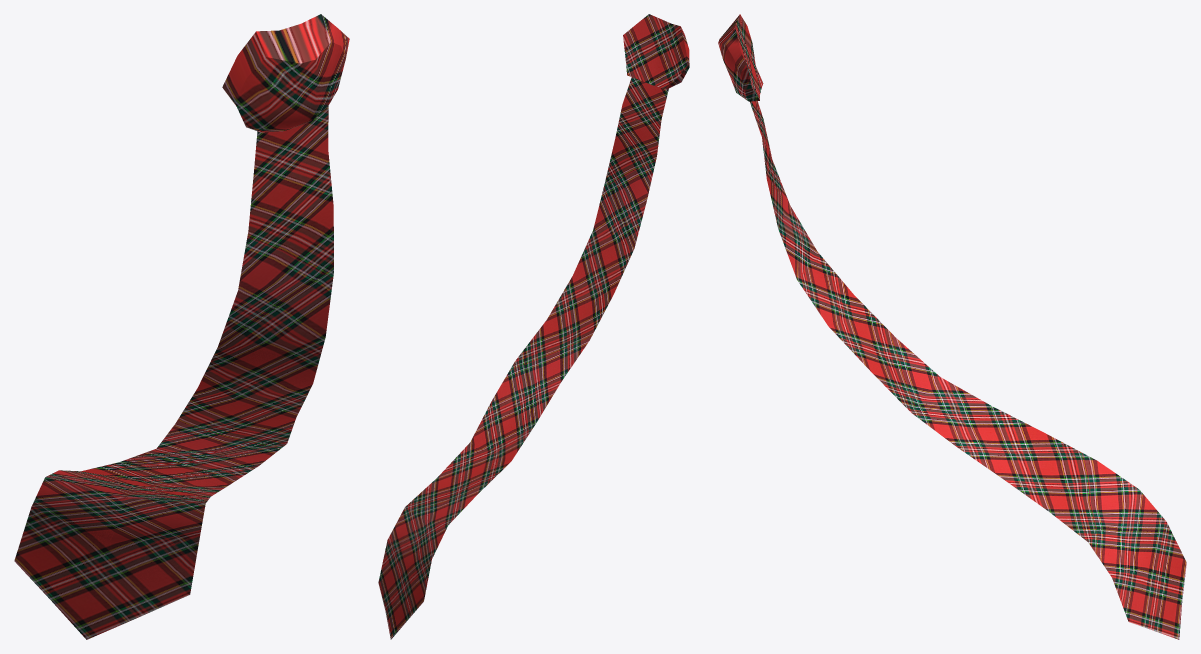
The model's file is Pose-11_SuitTie-1.fbx.
3 views of the same model, side by side, from view 1: azimuth 30°, elevation 25°; view 2: azimuth 150°, elevation 25°; view 3: azimuth 270°, elevation 25° (orthographic). The views are drawn at different scales.
Parts seen in each view (by area): view 1: Pose-11_SuitTie-1; view 2: Pose-11_SuitTie-1; view 3: Pose-11_SuitTie-1.
Part boxes in pixels (bbox=[...]): Pose-11_SuitTie-1: bbox=[14, 14, 349, 639]; Pose-11_SuitTie-1: bbox=[378, 14, 689, 639]; Pose-11_SuitTie-1: bbox=[718, 14, 1186, 639].
Bounding box in the file's own units: 12.04 × 39.32 × 29.1.
